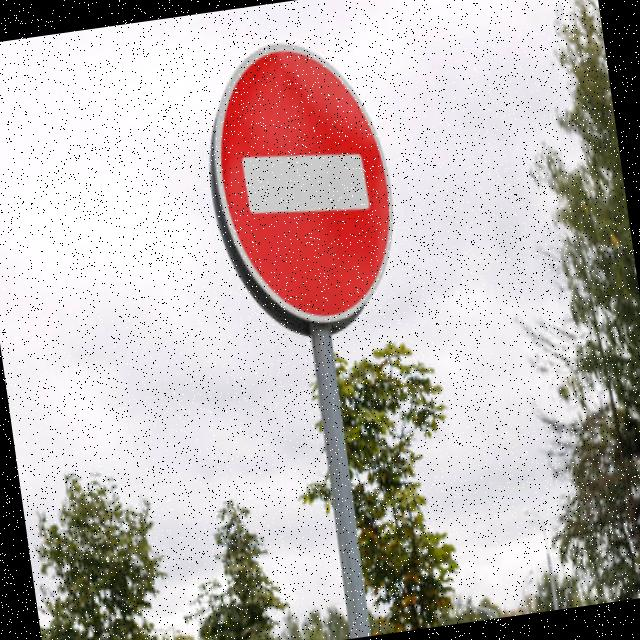do_not_enter: (188, 18, 433, 344)
